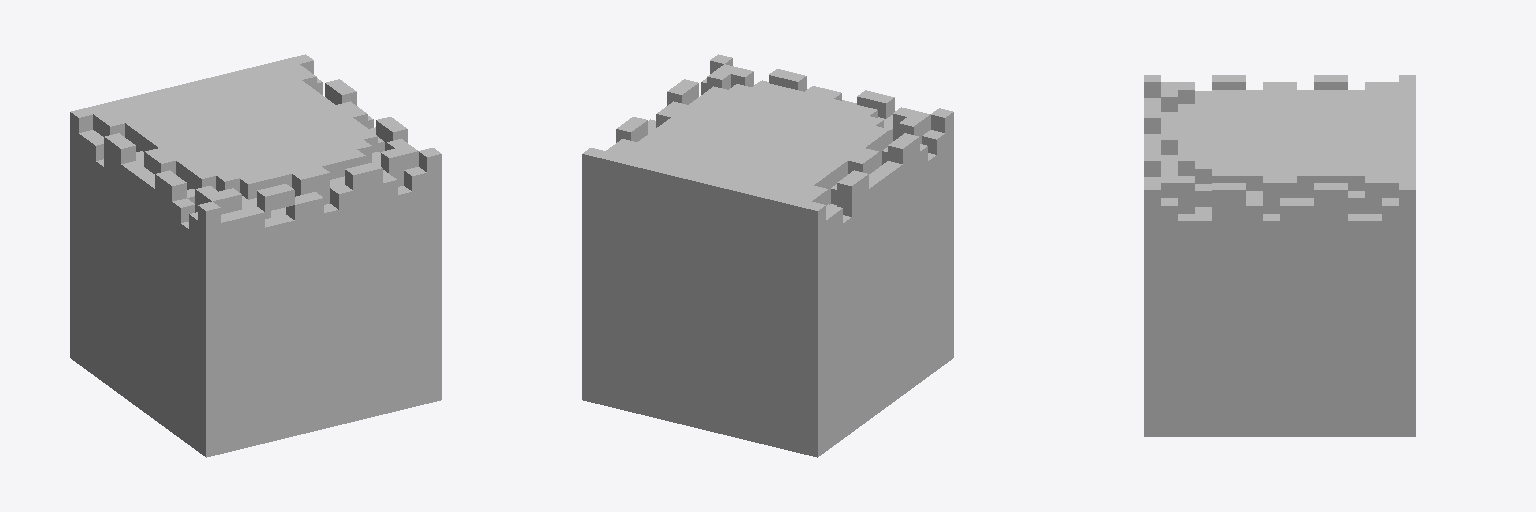
Rendered from brown under door.obj.
The picture shows the model from 3 angles: view 1: azimuth 30°, elevation 25°; view 2: azimuth 150°, elevation 25°; view 3: azimuth 270°, elevation 25°; orthographic projection.
Visible parts, largest first — view 1: object 1; view 2: object 1; view 3: object 1.
Boxes of the visible parts, box(x1,y1,x2,y2) form: object 1: box(70, 54, 441, 457); object 1: box(582, 54, 953, 457); object 1: box(1144, 75, 1415, 436).
Bounding box in the file's own units: 1.6 × 1.6 × 1.6.